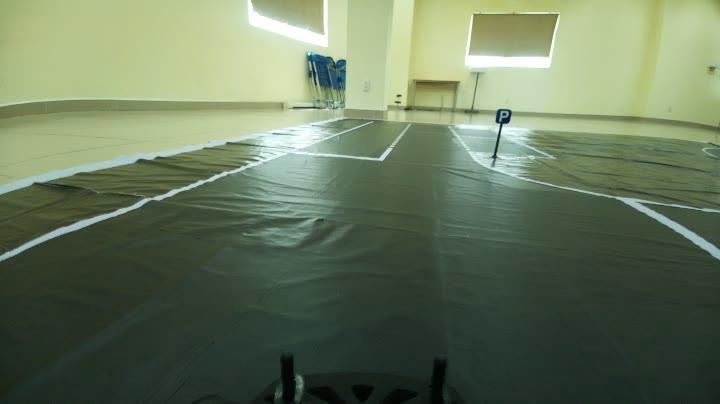parking: (492, 106, 512, 130)
